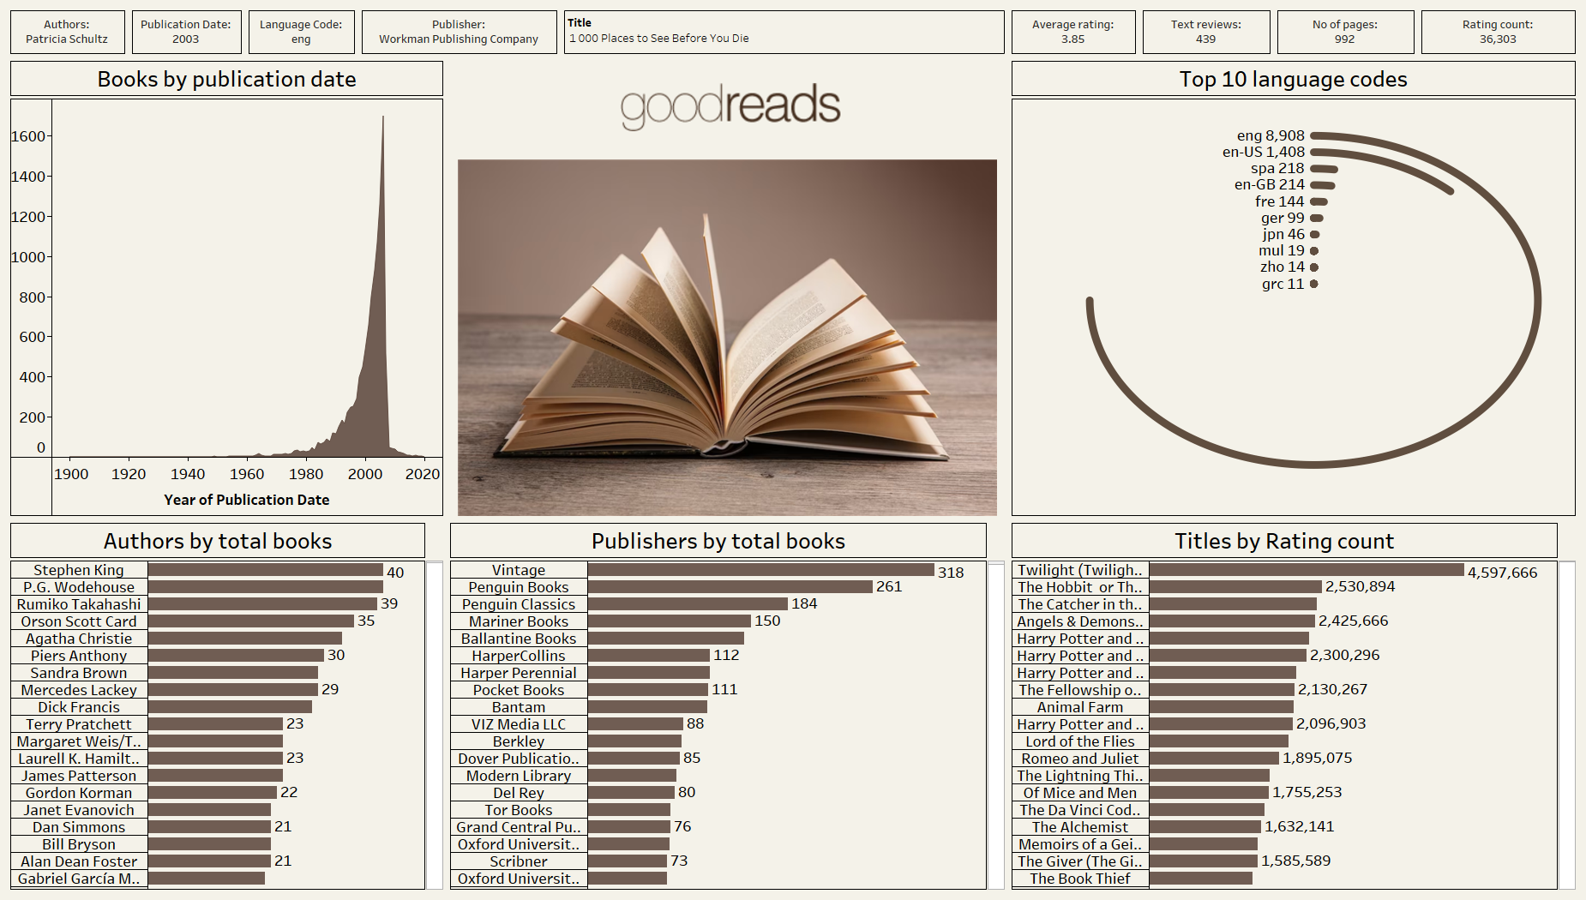

Layout of this report page (visuals, bound fields, positions):
{"tool":"tableau","page":{"name":"Goodreads book","canvas":[1850,1050],"ordinal":0},"visuals":[{"type":"worksheet","title":"Authors","mark":"Automatic","box":[8,8,142.2,59]},{"type":"worksheet","title":"Publication Date","mark":"Automatic","box":[150.2,8,135.8,59]},{"type":"worksheet","title":"Language code","mark":"Automatic","box":[286,8,132,59]},{"type":"worksheet","title":"Publisher","mark":"Automatic","box":[418,8,236,59]},{"type":"filter","title":"Authors","param":"[federated.05f30xj0hct8yo18zo7j50wd77cb].[none:title:nk]","box":[654,8,522,59]},{"type":"worksheet","title":"Average rating","mark":"Automatic","box":[1176,8,153,59]},{"type":"worksheet","title":"Text reviews","mark":"Automatic","box":[1329,8,157,59]},{"type":"worksheet","title":"Number of pages","mark":"Automatic","box":[1486,8,168,59]},{"type":"worksheet","title":"Ratings count","mark":"Automatic","box":[1654,8,188,59]},{"type":"worksheet","title":"Books by publication date","mark":"Area","rows":["bookID"],"cols":["publication_date"],"box":[8,67,513,539]},{"type":"image","param":"C:/Users/kirti/OneDrive/Documents/My Tableau Repository/Datasources/Capture.PNG","box":[521,67,655,114.9]},{"type":"worksheet","title":"Top 10 language codes","mark":"Line","box":[1176,67,666,539]},{"type":"image","param":"C:/Users/kirti/OneDrive/Documents/My Tableau Repository/Datasources/book.PNG","box":[521,181.9,655,424.1]},{"type":"worksheet","title":"Authors by total books","mark":"Automatic","rows":["authors"],"cols":["bookID"],"box":[8,606,512.6,436]},{"type":"worksheet","title":"Publishers by total books ","mark":"Automatic","rows":["publisher"],"cols":["bookID"],"box":[520.6,606,655.4,436]},{"type":"worksheet","title":"Titles by Rating count","mark":"Automatic","rows":["title"],"cols":["Calculation_1076360345373233154"],"box":[1176,606,666,436]}]}

Visuals, with their boxes in screenshot pixels (x1, y1, x2, y2), scaled from the page's 1850x1050 canvas onto the 1586x900 screenshot:
"Authors" worksheet: x1=7 y1=7 x2=129 y2=57
"Publication Date" worksheet: x1=129 y1=7 x2=245 y2=57
"Language code" worksheet: x1=245 y1=7 x2=358 y2=57
"Publisher" worksheet: x1=358 y1=7 x2=561 y2=57
"Authors" filter: x1=561 y1=7 x2=1008 y2=57
"Average rating" worksheet: x1=1008 y1=7 x2=1139 y2=57
"Text reviews" worksheet: x1=1139 y1=7 x2=1274 y2=57
"Number of pages" worksheet: x1=1274 y1=7 x2=1418 y2=57
"Ratings count" worksheet: x1=1418 y1=7 x2=1579 y2=57
"Books by publication date" worksheet (Area marks): x1=7 y1=57 x2=447 y2=519
image: x1=447 y1=57 x2=1008 y2=156
"Top 10 language codes" worksheet (Line marks): x1=1008 y1=57 x2=1579 y2=519
image: x1=447 y1=156 x2=1008 y2=519
"Authors by total books" worksheet: x1=7 y1=519 x2=446 y2=893
"Publishers by total books " worksheet: x1=446 y1=519 x2=1008 y2=893
"Titles by Rating count" worksheet: x1=1008 y1=519 x2=1579 y2=893
